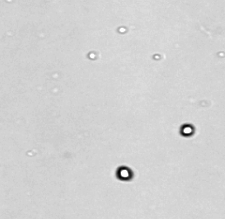Living Cell: (116, 166, 133, 181), (180, 124, 195, 136)
